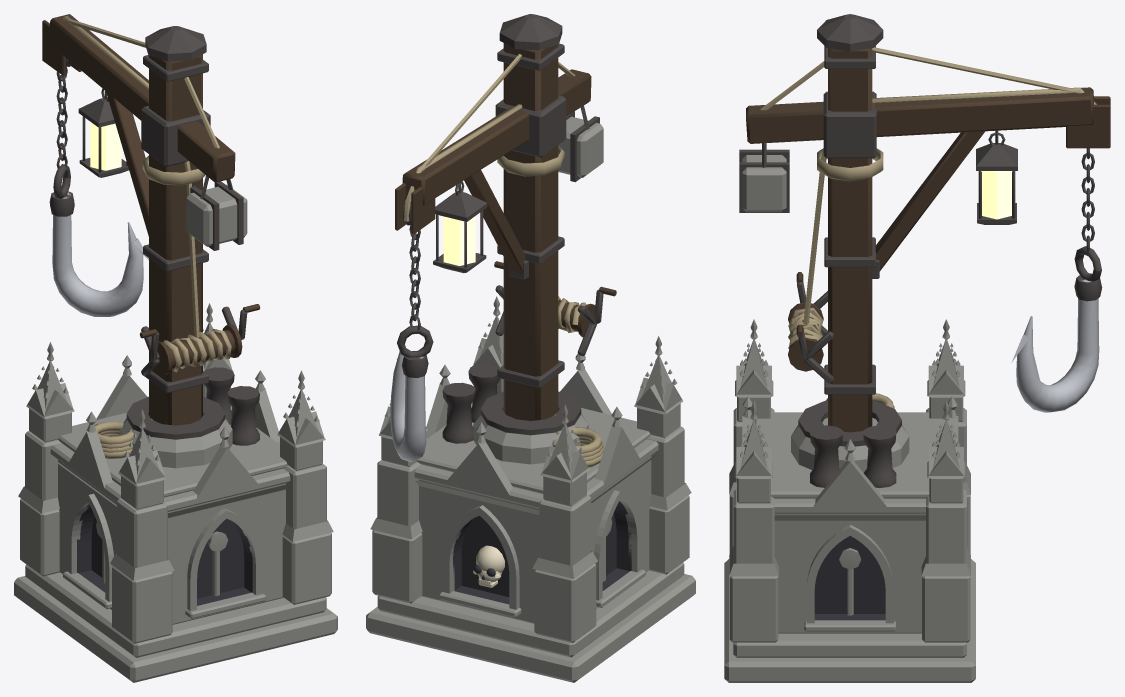
Rendered from tower_hook_2.glb.
3 renders of one model, left to right at view 1: azimuth 30°, elevation 25°; view 2: azimuth 150°, elevation 25°; view 3: azimuth 270°, elevation 25°, orthographic. The views are drawn at different scales.
Visible parts, largest first — view 1: tower, turret, hook; view 2: tower, turret, hook; view 3: tower, turret, hook.
Part boxes in pixels (left/top/right/bottom): tower: left=14, top=303, right=337, bottom=682; turret: left=42, top=14, right=260, bottom=425; hook: left=49, top=66, right=148, bottom=316; tower: left=366, top=296, right=695, bottom=682; turret: left=395, top=14, right=616, bottom=420; hook: left=390, top=225, right=433, bottom=462; tower: left=724, top=319, right=975, bottom=682; turret: left=739, top=14, right=1110, bottom=432; hook: left=1011, top=148, right=1102, bottom=412.
Size of the model in its own units: 1.7 by 4.59 by 2.61.
